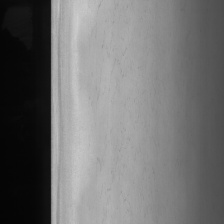silk_spot: (86, 0, 144, 217)
